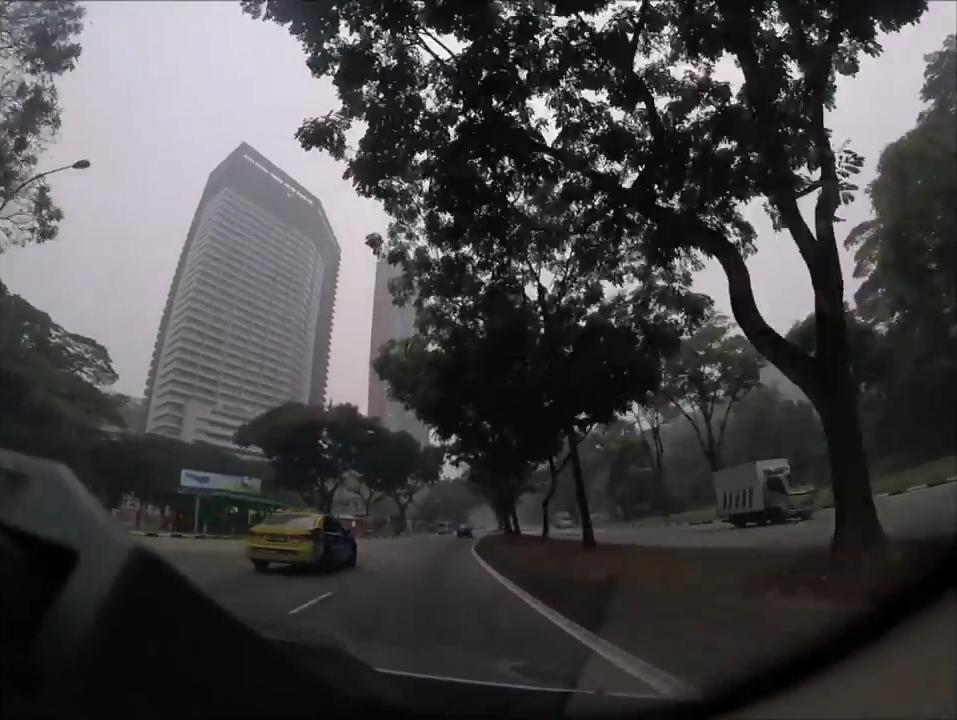bus: (707, 457, 814, 528)
car: (242, 509, 357, 573), (552, 510, 573, 529), (436, 521, 454, 535), (456, 523, 473, 537)
